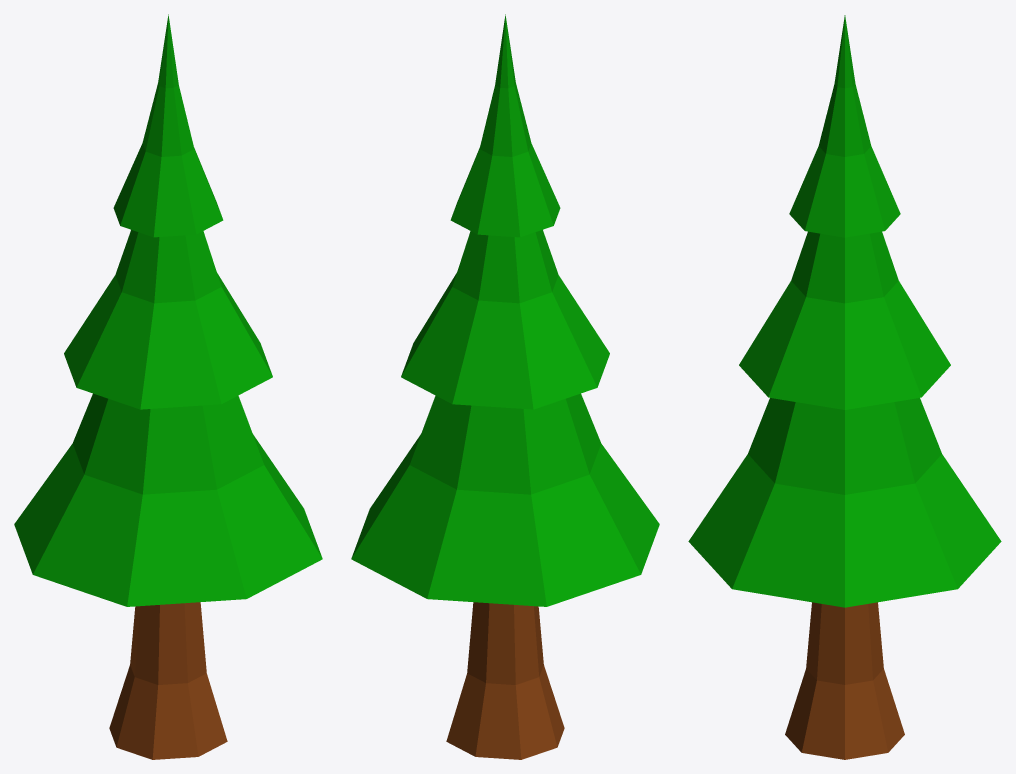
File: spruce-tree-1.glb
3 views of the same model, side by side, from view 1: azimuth 30°, elevation 25°; view 2: azimuth 150°, elevation 25°; view 3: azimuth 270°, elevation 25° (orthographic).
Visible parts, largest first — view 1: spruce-tree-1; view 2: spruce-tree-1; view 3: spruce-tree-1.
Part boxes in pixels (<box>): spruce-tree-1: <box>14,14,322,759</box>; spruce-tree-1: <box>351,14,659,759</box>; spruce-tree-1: <box>688,15,1001,759</box>.
Bounding box in the file's own units: 1.83 × 4.65 × 1.83.
